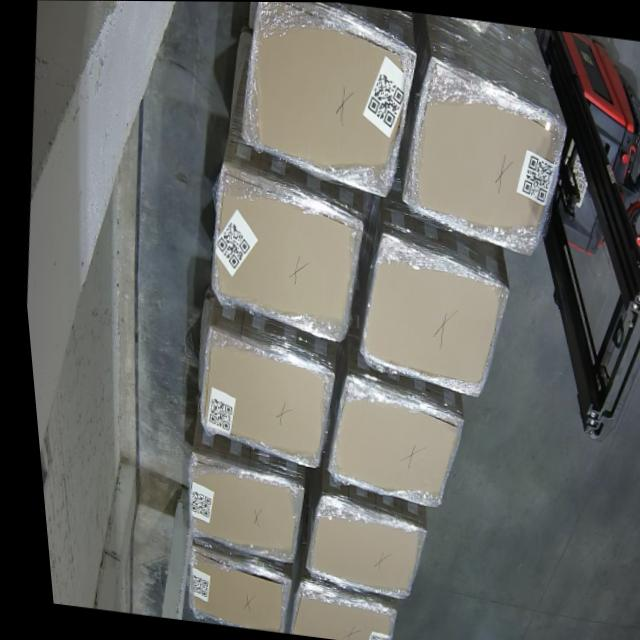pallet: (240, 2, 412, 198), (400, 55, 565, 248), (198, 166, 361, 347), (354, 233, 501, 393), (188, 320, 327, 471), (316, 375, 455, 506), (295, 495, 415, 598), (178, 457, 292, 556), (174, 539, 278, 632), (275, 581, 386, 640)
